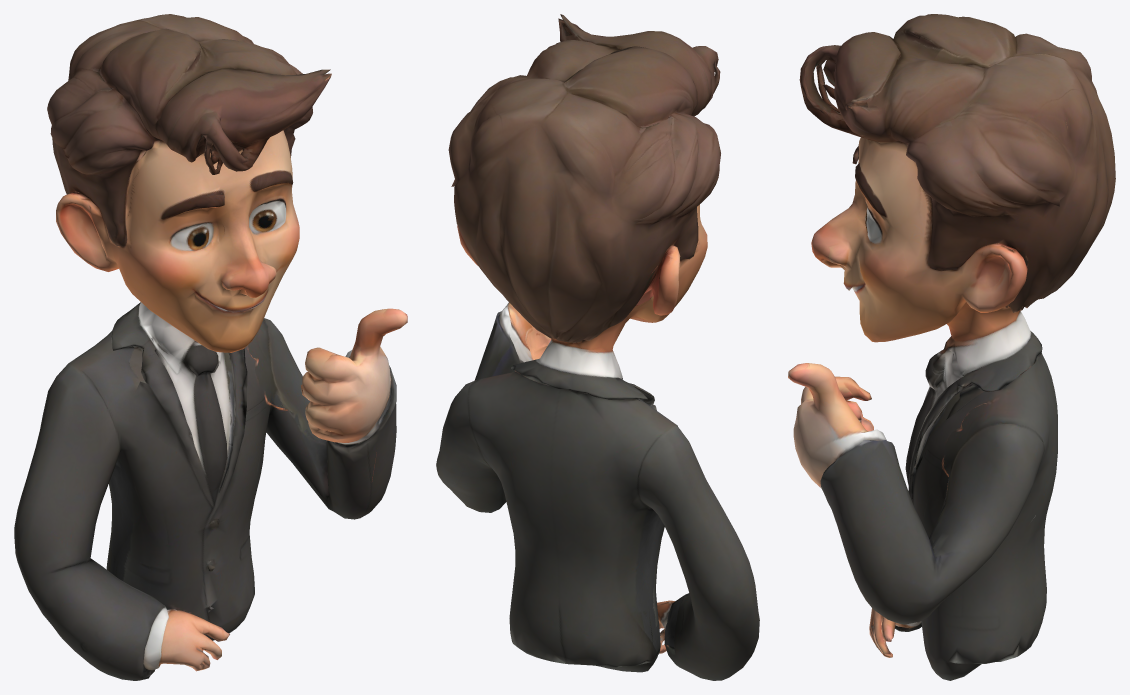
Rendered from Business_Thumbs_Up_Ma_0526084857_texture.glb.
The picture shows the model from 3 angles, left to right: view 1: azimuth 30°, elevation 25°; view 2: azimuth 150°, elevation 25°; view 3: azimuth 270°, elevation 25°; orthographic projection. The views are drawn at different scales.
Bounding box in the file's own units: 1.12 × 2 × 0.9376.
Materials: 1 (1 with a texture image).
